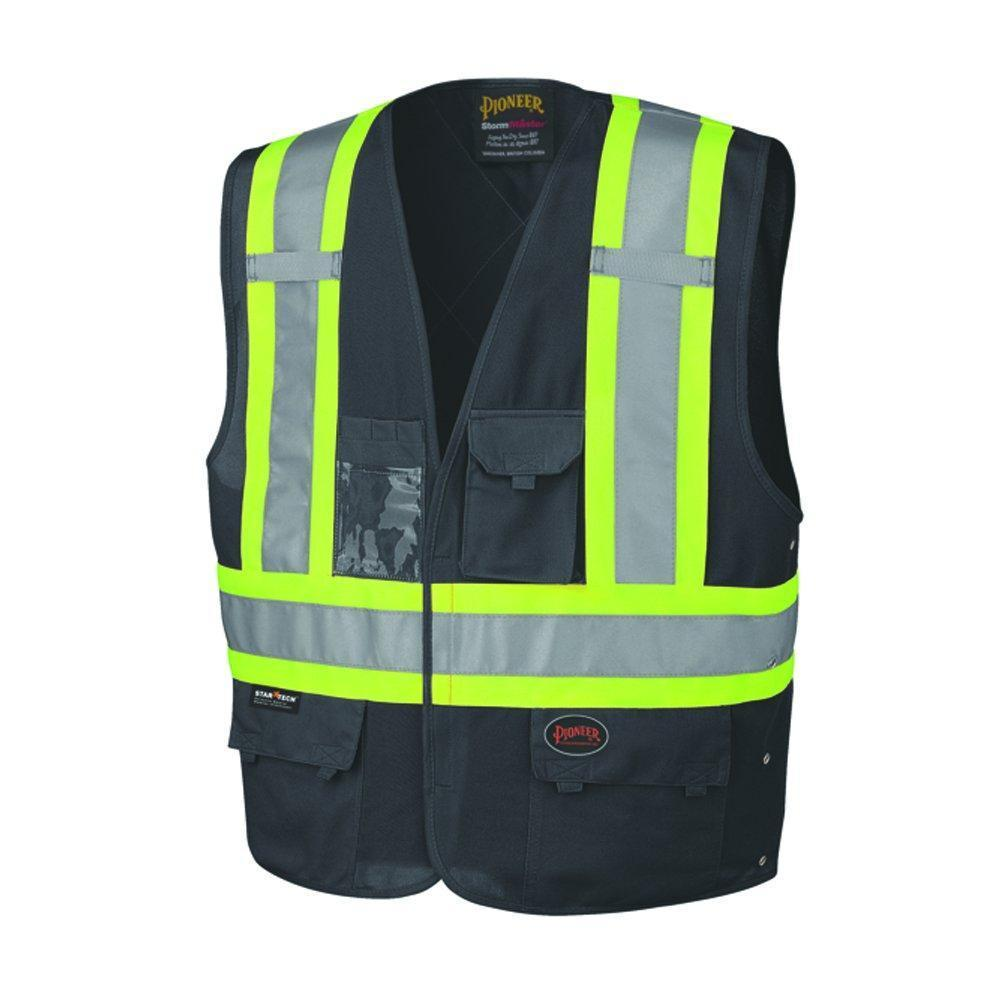vest: (209, 82, 807, 904)
